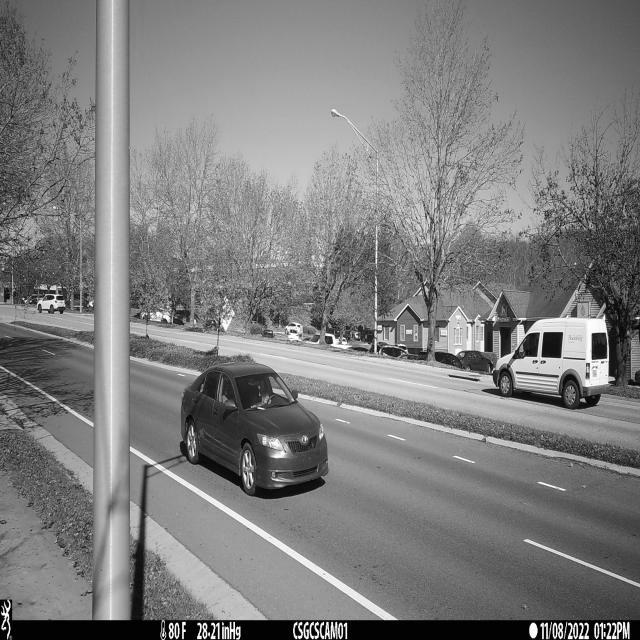Sedan: (179, 363, 330, 497)
